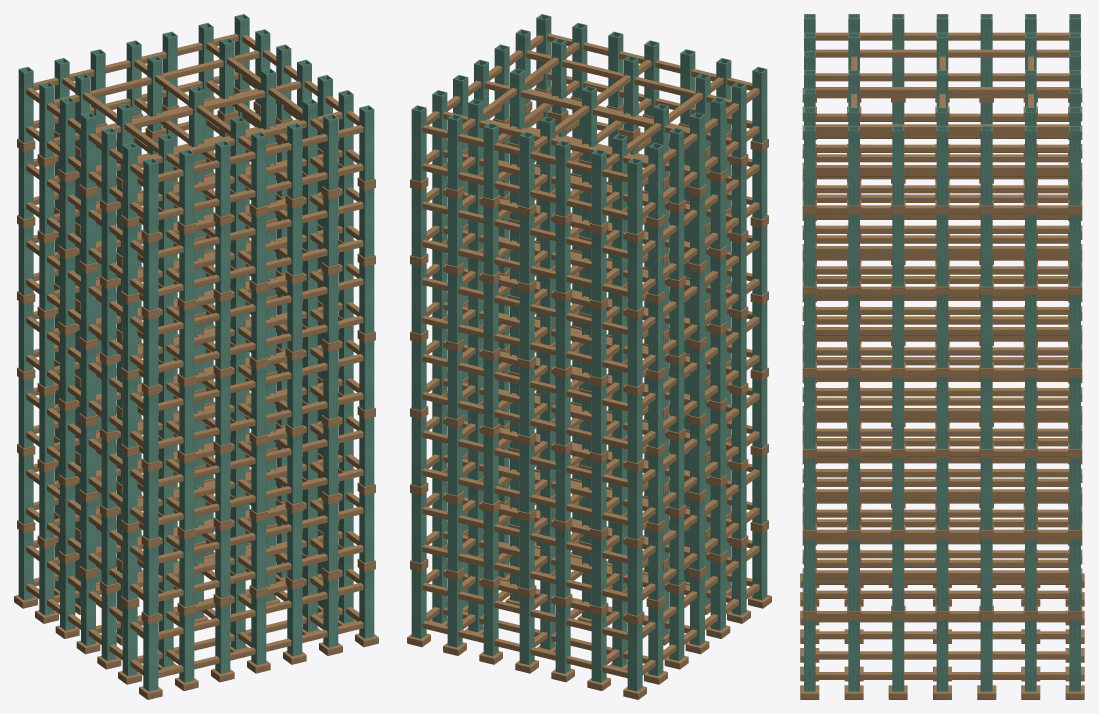
3 views of the same model, side by side, from view 1: azimuth 30°, elevation 25°; view 2: azimuth 150°, elevation 25°; view 3: azimuth 270°, elevation 25° (orthographic). The views are drawn at different scales.
Visible parts, largest first — view 1: Tier 6 internal tie 0-0.56-0-0.75, Tier 6 internal tie 0-0-0-0.75, Tier 5 tie 0-0-0.75, Tier 1 tie 0-0-0.75, Tier 2 tie 0-0-0.25, Tier 5 tie 0-0-0.25, Tier 0 tie 0-0-0.25, Tier 3 tie 0-0-0.75, Tier 6 tie 0-0-0.25, Tier 0 tie 0-0-0.75, Tier 2 tie 0-0-0.75, Tier 3 tie 0-0-0.25 (+175 smaller); view 2: Tier 6 internal tie 0--0.56-0-0.75, Tier 6 internal tie 0-0-0-0.75, Tier 5 tie 2-0-0.75, Tier 1 tie 2-0-0.75, Tier 2 tie 2-0-0.25, Tier 5 tie 2-0-0.25, Tier 0 tie 2-0-0.25, Tier 3 tie 2-0-0.75, Tier 6 tie 2-0-0.25, Tier 0 tie 2-0-0.75, Tier 2 tie 2-0-0.75, Tier 3 tie 2-0-0.25 (+175 smaller); view 3: Tier 6 internal tie 1--0.56-0-0.75, Tier 6 internal tie 1-0.56-0-0.75, Tier 0 internal tie 1-0.56-0-0.25, Tier 1 internal tie 1-0.56-0-0.25, Tier 4 tie 1-0-0.25, Tier 5 tie 1-0-0.25, Tier 0 tie 1-0-0.75, Tier 1 tie 1-0-0.25, Tier 1 tie 1-0-0.75, Tier 2 internal tie 1-0.56-0-0.25, Tier 2 tie 1-0-0.25, Tier 2 tie 1-0-0.75 (+109 smaller).
Boxes of the visible parts, box(x1,y1,x2,y2) form: Tier 6 internal tie 0-0.56-0-0.75: box(54, 50, 259, 106); Tier 6 internal tie 0-0-0-0.75: box(96, 81, 301, 137); Tier 5 tie 0-0-0.75: box(158, 201, 363, 258); Tier 1 tie 0-0-0.75: box(158, 506, 363, 563); Tier 2 tie 0-0-0.25: box(158, 468, 363, 525); Tier 5 tie 0-0-0.25: box(158, 239, 363, 296); Tier 0 tie 0-0-0.25: box(158, 621, 363, 678); Tier 3 tie 0-0-0.75: box(158, 354, 363, 411); Tier 6 tie 0-0-0.25: box(158, 163, 363, 220); Tier 0 tie 0-0-0.75: box(158, 582, 363, 639); Tier 2 tie 0-0-0.75: box(158, 430, 363, 487); Tier 3 tie 0-0-0.25: box(158, 392, 363, 449); Tier 6 internal tie 0--0.56-0-0.75: box(526, 50, 731, 106); Tier 6 internal tie 0-0-0-0.75: box(484, 81, 689, 137); Tier 5 tie 2-0-0.75: box(422, 201, 627, 258); Tier 1 tie 2-0-0.75: box(422, 506, 627, 563); Tier 2 tie 2-0-0.25: box(422, 468, 627, 525); Tier 5 tie 2-0-0.25: box(422, 239, 627, 296); Tier 0 tie 2-0-0.25: box(422, 621, 627, 678); Tier 3 tie 2-0-0.75: box(422, 354, 627, 411); Tier 6 tie 2-0-0.25: box(422, 163, 627, 220); Tier 0 tie 2-0-0.75: box(422, 582, 627, 639); Tier 2 tie 2-0-0.75: box(422, 430, 627, 487); Tier 3 tie 2-0-0.25: box(422, 392, 627, 449); Tier 6 internal tie 1--0.56-0-0.75: box(815, 49, 1069, 57); Tier 6 internal tie 1-0.56-0-0.75: box(815, 124, 1069, 132); Tier 0 internal tie 1-0.56-0-0.25: box(815, 651, 1069, 659); Tier 1 internal tie 1-0.56-0-0.25: box(815, 570, 1069, 578); Tier 4 tie 1-0-0.25: box(815, 347, 1069, 355); Tier 5 tie 1-0-0.25: box(815, 266, 1069, 274); Tier 0 tie 1-0-0.75: box(815, 631, 1069, 639); Tier 1 tie 1-0-0.25: box(815, 590, 1069, 598); Tier 1 tie 1-0-0.75: box(815, 550, 1069, 558); Tier 2 internal tie 1-0.56-0-0.25: box(815, 489, 1069, 497); Tier 2 tie 1-0-0.25: box(815, 509, 1069, 517); Tier 2 tie 1-0-0.75: box(815, 469, 1069, 477).
Bounding box in the file's own units: 1.8 × 3.97 × 1.8.
2 materials, 2 textured.
